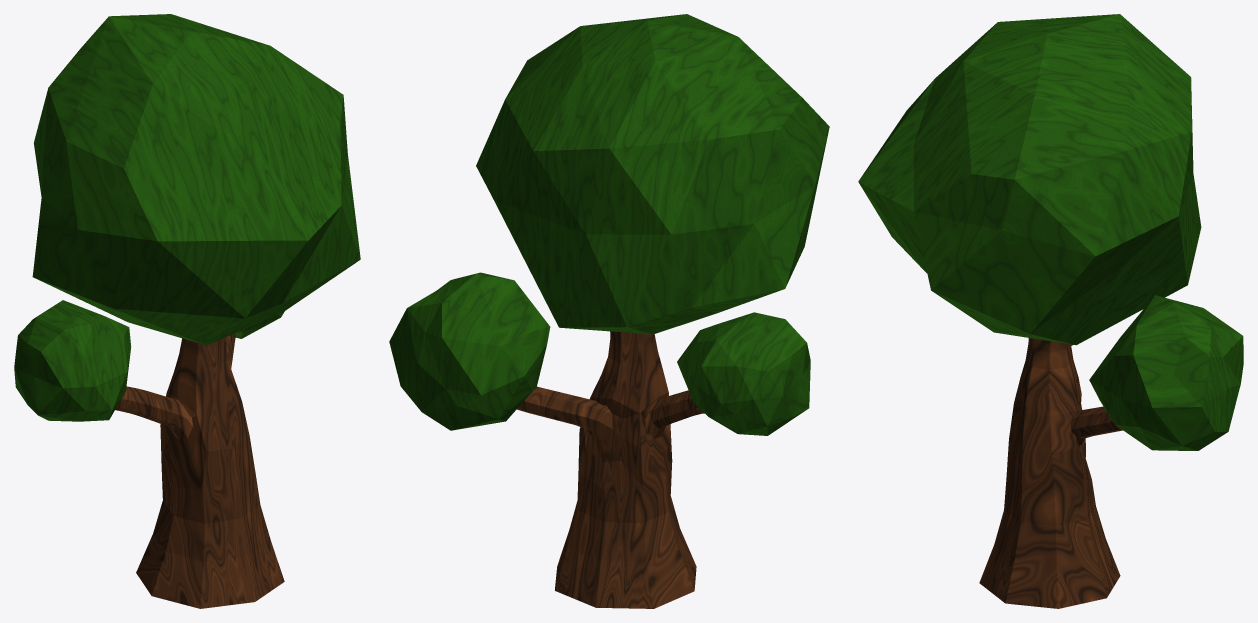
File: Tree.fbx
The picture shows the model from 3 angles, left to right: view 1: azimuth 30°, elevation 25°; view 2: azimuth 150°, elevation 25°; view 3: azimuth 270°, elevation 25°; orthographic projection. The views are drawn at different scales.
Parts seen in each view (by area): view 1: Icosphere, Plane; view 2: Icosphere, Plane; view 3: Icosphere, Plane.
Boxes of the visible parts, left/top/right/bottom form: Icosphere: left=14, top=14, right=360, bottom=421; Plane: left=115, top=333, right=284, bottom=608; Icosphere: left=389, top=14, right=829, bottom=435; Plane: left=517, top=331, right=704, bottom=608; Icosphere: left=858, top=14, right=1243, bottom=450; Plane: left=979, top=338, right=1122, bottom=608.
Size of the model in its own units: 493 by 787 by 513.
Materials: 2 (2 with a texture image).
